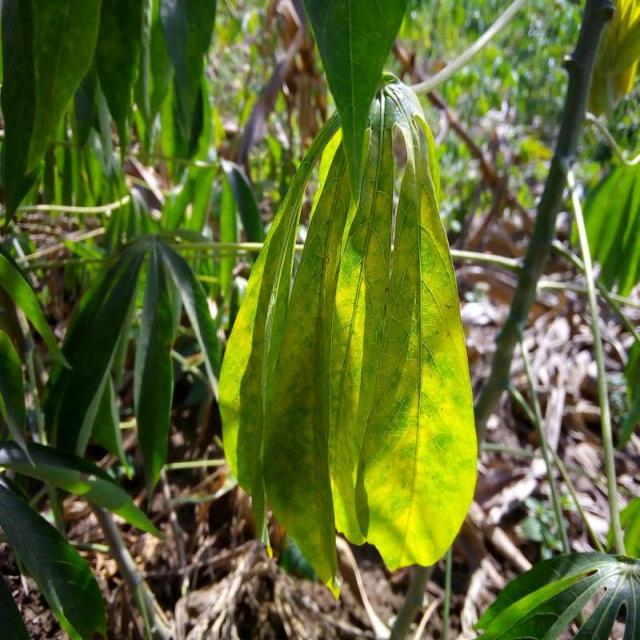cassava leaf: (218, 71, 480, 596)
